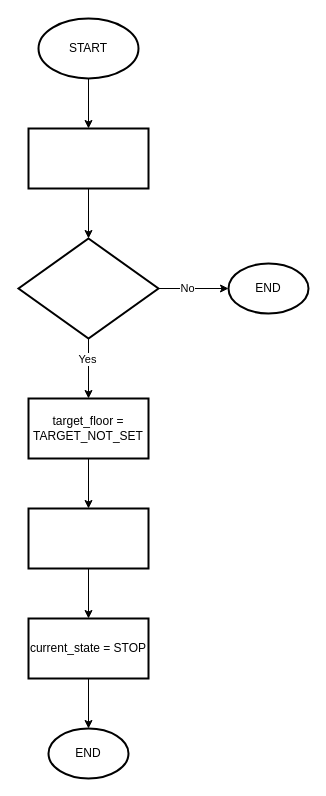
This 326x796 diagram has some shape labels left out. Each missing label, with the centre of its shape:
door_timer = 0: point (88, 538)
door_timer >= 30 ?: point (88, 288)
door_timer++: point (88, 158)
